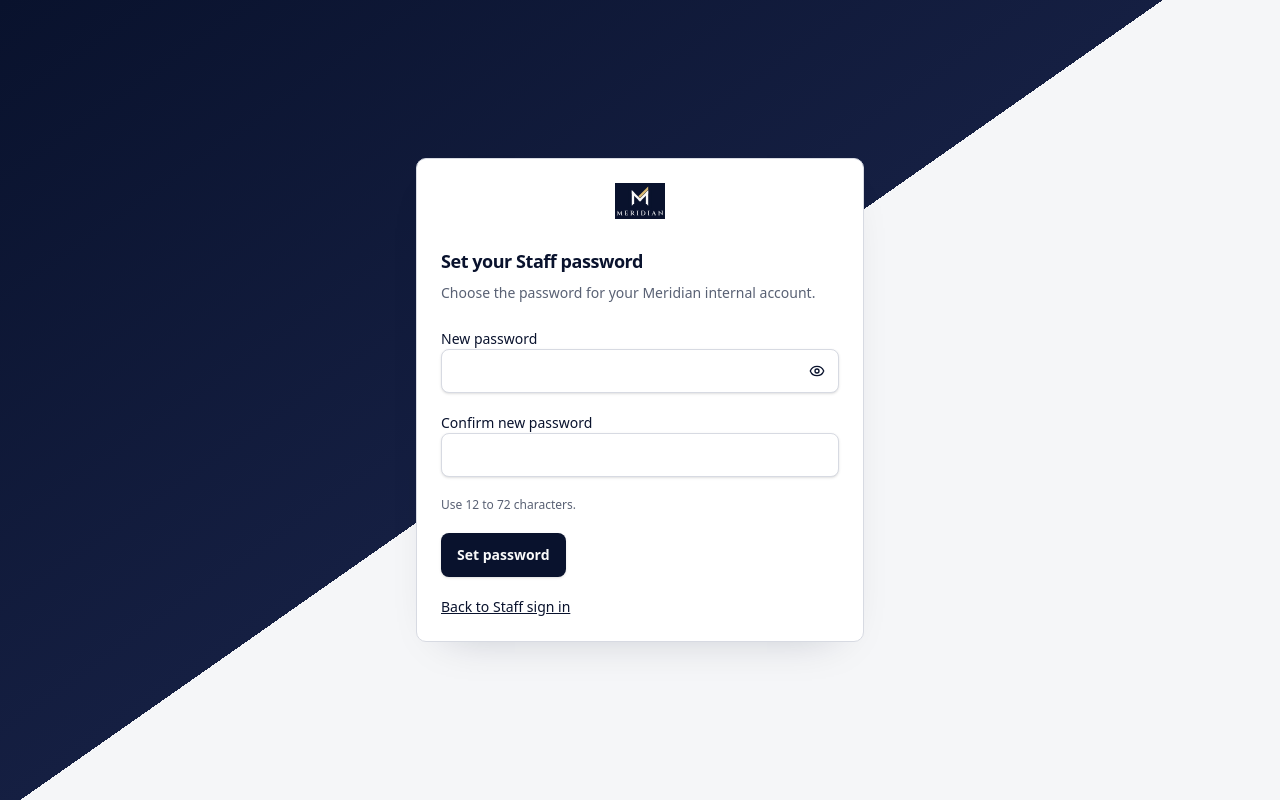
it: Internal Web password setup › offers sign-in or a fresh link after an uncertain result without replaying the password
Type "A-Valid-Password-123" into the password field labelled "New password" at (640, 371), box x1=441 y1=349 x2=839 y2=393
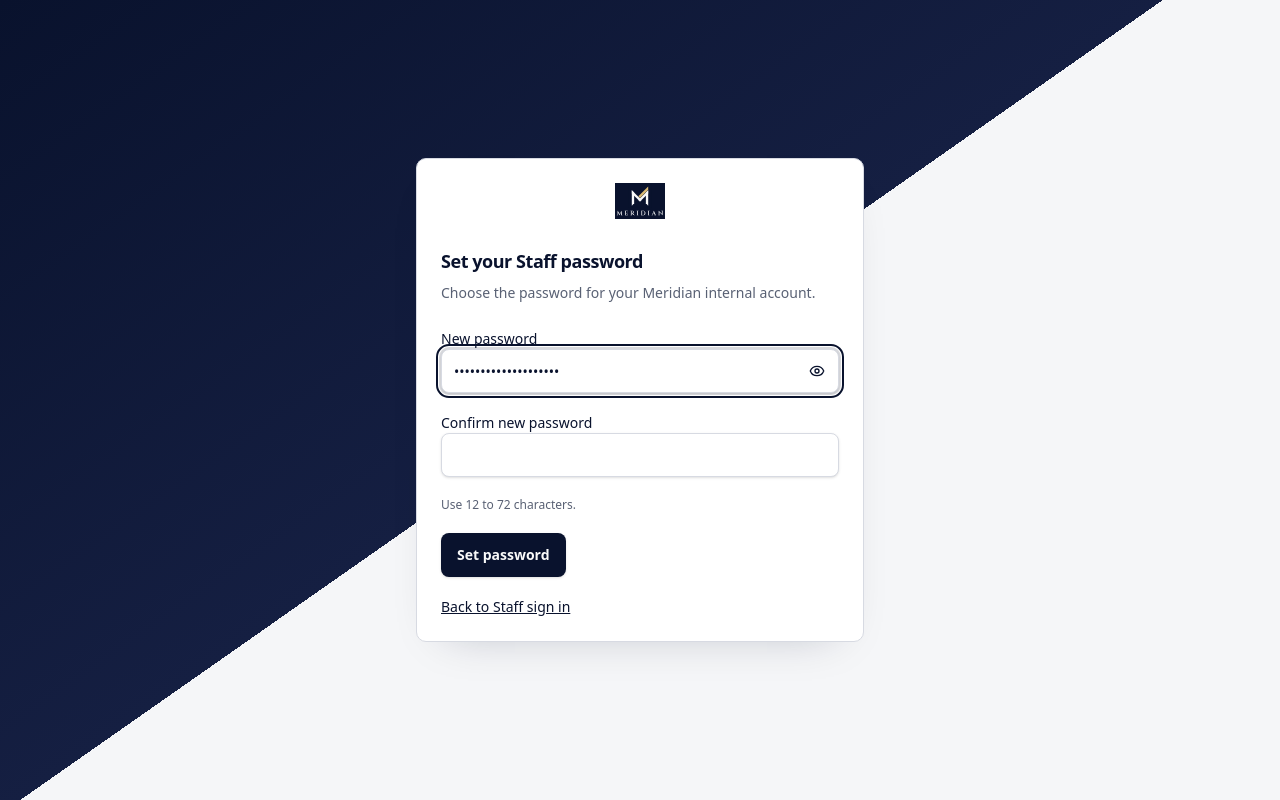
Type "A-Valid-Password-123" into the password field labelled "Confirm new password" at (640, 455), box x1=441 y1=433 x2=839 y2=477
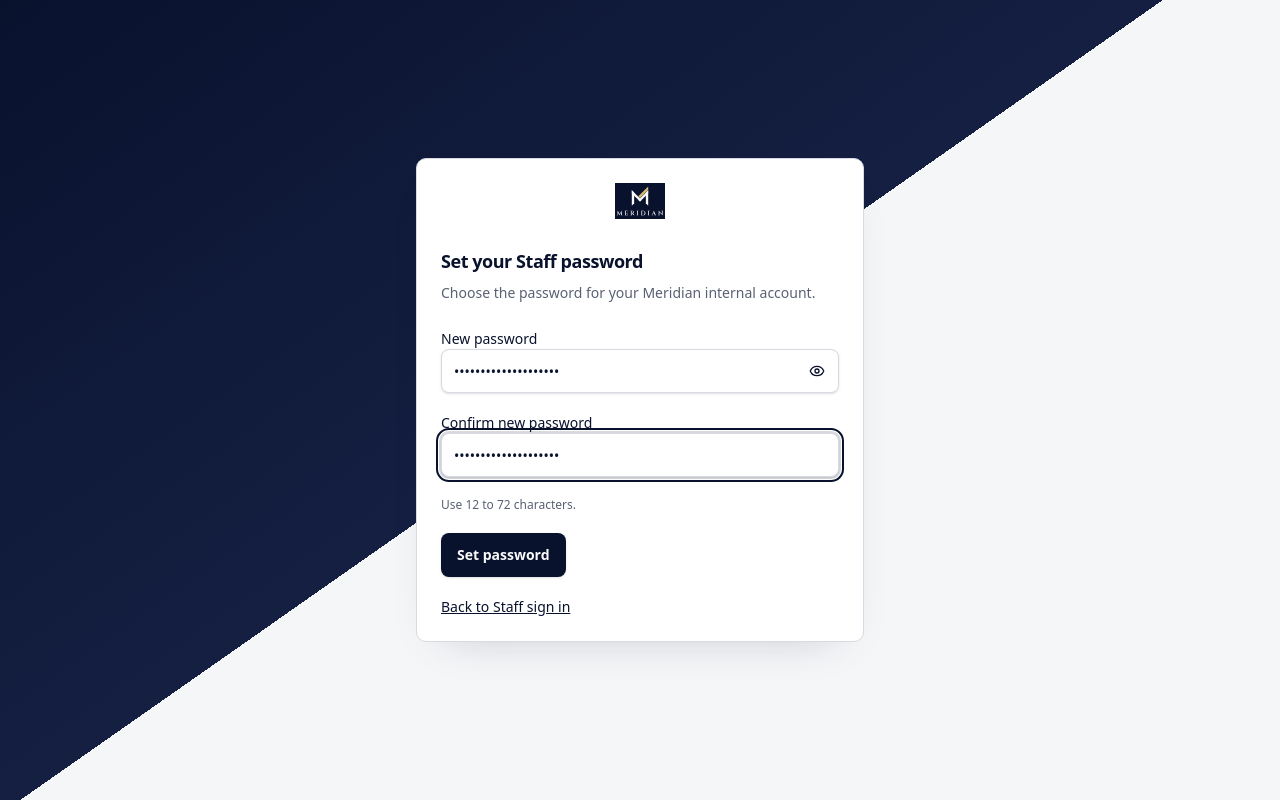
Double-click the button "Set password" at (503, 555), box x1=441 y1=533 x2=566 y2=577
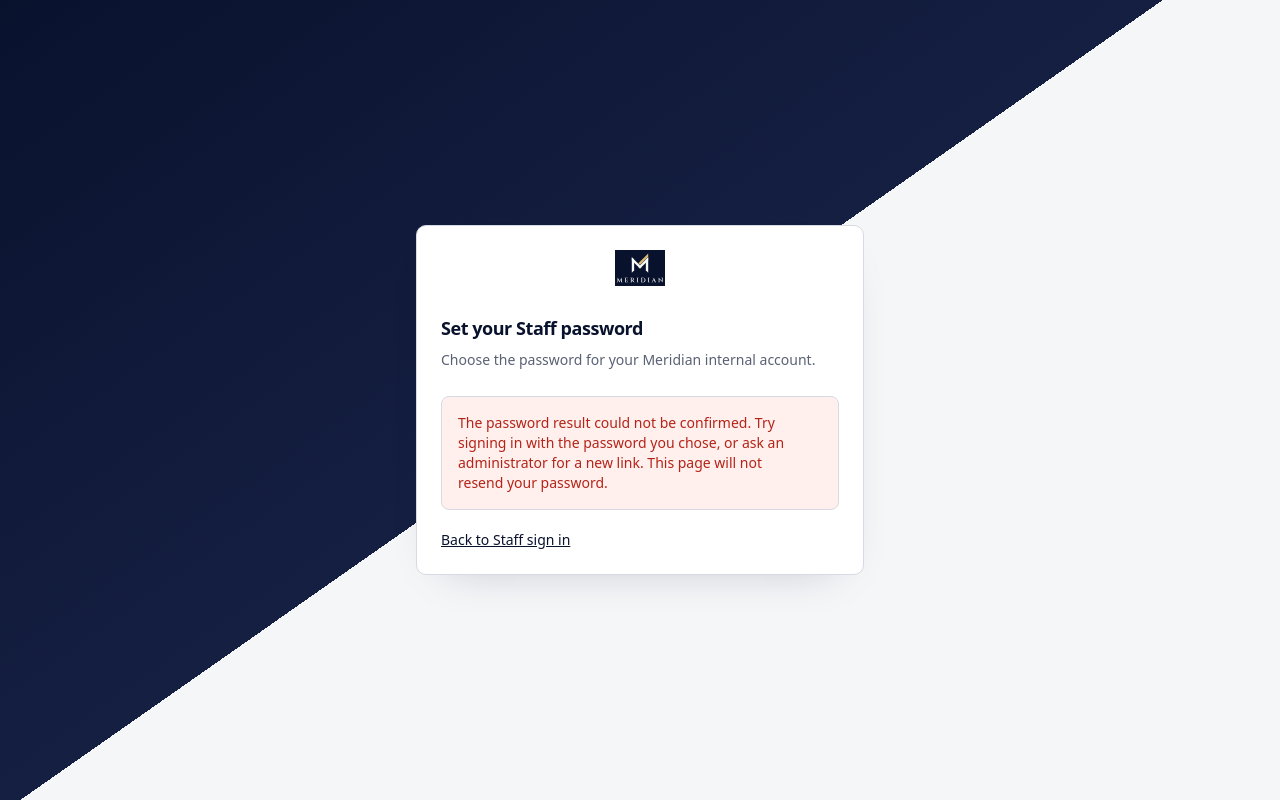
Expected: the text "password result could not be confirmed" is shown, x1=458 y1=413 x2=784 y2=492
Expected: the label labelled "New password" is gone
